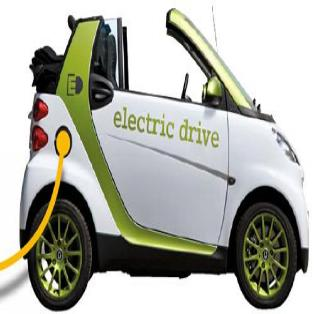Auto: (18, 6, 310, 313)
